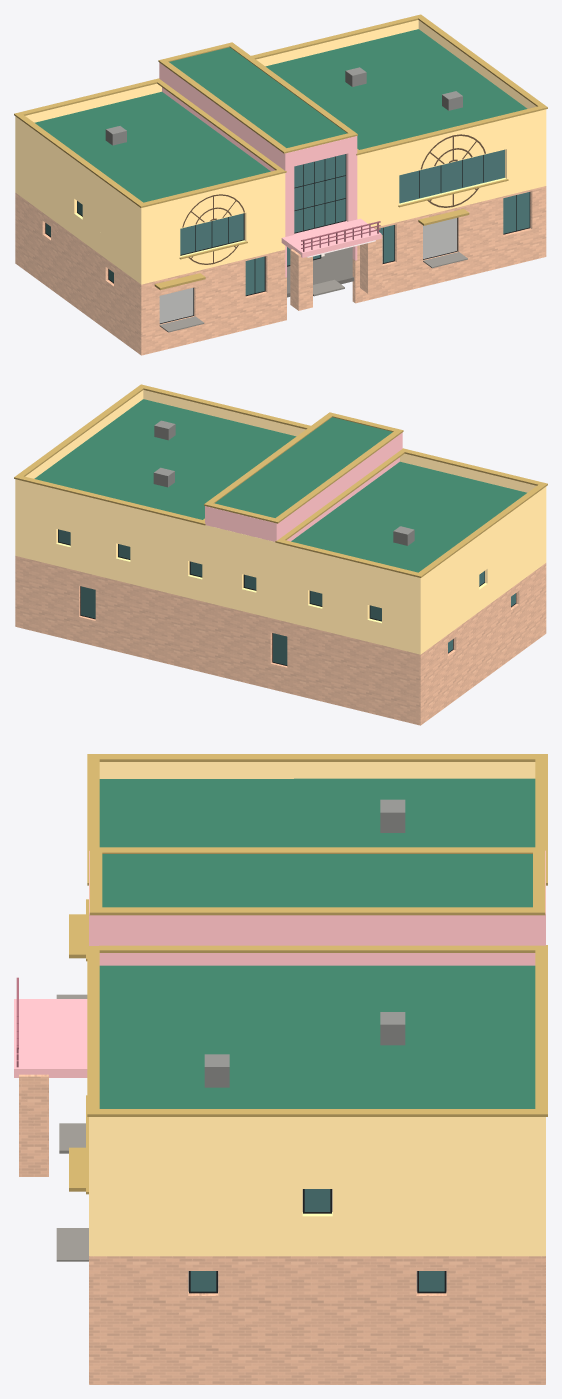
3 views of the same model, one above another, from view 1: azimuth 30°, elevation 25°; view 2: azimuth 150°, elevation 25°; view 3: azimuth 270°, elevation 25° (orthographic). The views are drawn at different scales.
Parts seen in each view (by area): view 1: w451562723__roof-green, w451562723__yellow-wall, w451562723__brick-wall, w451562723__glass, w451562723__trim, w451562723__pink-wall, w451562723__shutter-white, w451562723__frame, w451562723__floor-slab, w451562723__threshold, w451562723__ac, w451562723__relief-gold (+1 smaller); view 2: w451562723__yellow-wall, w451562723__brick-wall, w451562723__roof-green, w451562723__trim, w451562723__pink-wall, w451562723__glass, w451562723__ac, w451562723__door-glass; view 3: w451562723__roof-green, w451562723__yellow-wall, w451562723__brick-wall, w451562723__trim, w451562723__pink-wall, w451562723__ac, w451562723__threshold, w451562723__glass.
Part boxes in pixels (<box>): w451562723__roof-green: <box>34,29,527,202</box>; w451562723__yellow-wall: <box>15,20,546,284</box>; w451562723__brick-wall: <box>15,186,546,355</box>; w451562723__glass: <box>46,149,529,295</box>; w451562723__trim: <box>14,14,547,290</box>; w451562723__pink-wall: <box>159,62,381,277</box>; w451562723__shutter-white: <box>159,218,456,323</box>; w451562723__frame: <box>45,154,530,323</box>; w451562723__floor-slab: <box>287,247,353,297</box>; w451562723__threshold: <box>159,252,467,332</box>; w451562723__ac: <box>105,67,462,145</box>; w451562723__relief-gold: <box>182,134,485,264</box>; w451562723__yellow-wall: <box>15,390,546,654</box>; w451562723__brick-wall: <box>15,556,546,725</box>; w451562723__roof-green: <box>34,399,526,572</box>; w451562723__trim: <box>14,384,547,577</box>; w451562723__pink-wall: <box>205,432,402,541</box>; w451562723__glass: <box>58,529,515,652</box>; w451562723__ac: <box>153,420,414,545</box>; w451562723__door-glass: <box>81,586,287,665</box>; w451562723__roof-green: <box>99,778,535,1108</box>; w451562723__yellow-wall: <box>89,762,545,1256</box>; w451562723__brick-wall: <box>19,1074,545,1384</box>; w451562723__trim: <box>69,754,547,1194</box>; w451562723__pink-wall: <box>14,850,545,1077</box>; w451562723__ac: <box>204,799,405,1087</box>; w451562723__threshold: <box>56,994,88,1261</box>; w451562723__glass: <box>190,1189,444,1291</box>.
Size of the model in its own units: 33.96 by 13.43 by 21.27.
Materials: 16 (1 with a texture image).
